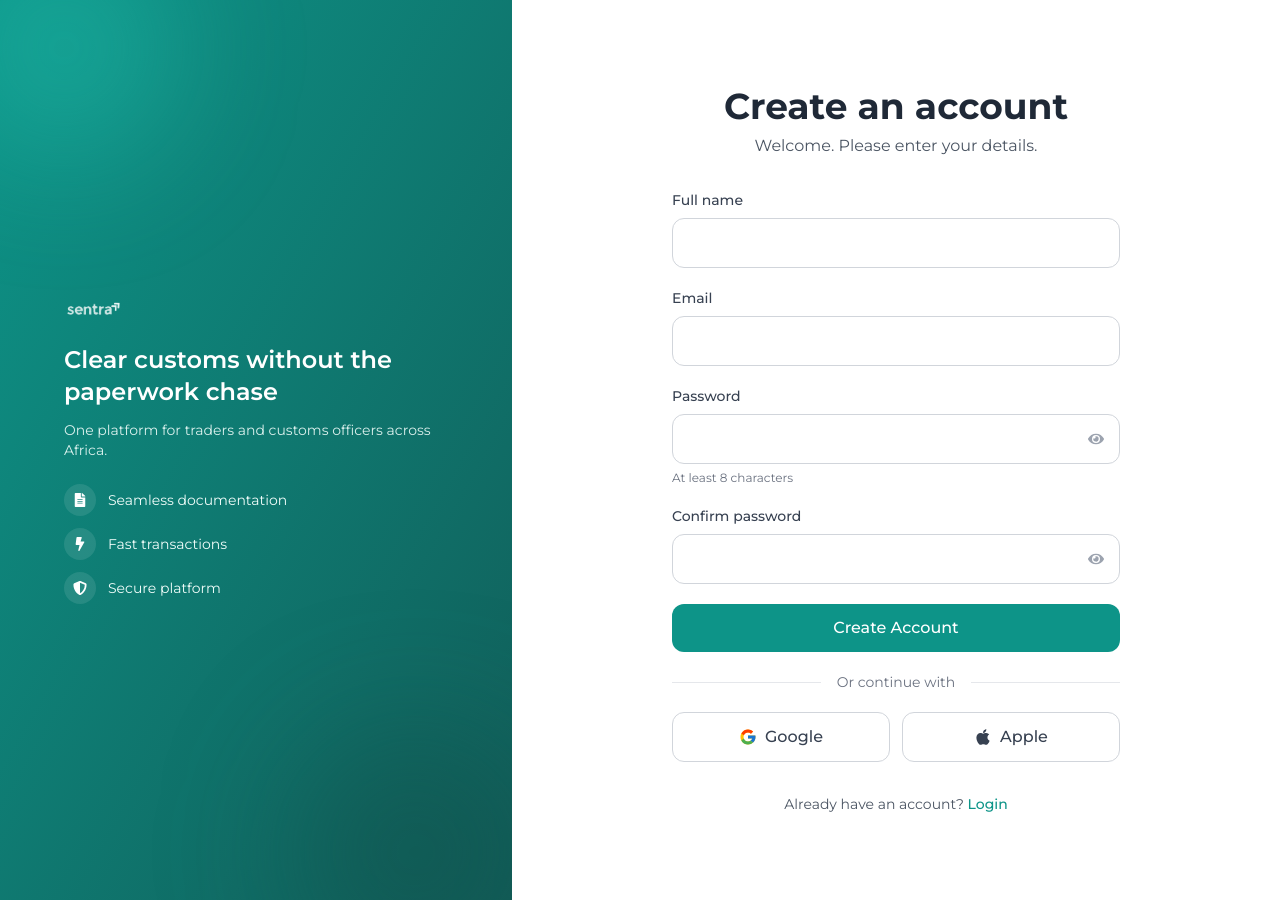
TraderSignup validation › shows required-field errors when submitted empty
Step 1. Click the button "Create Account" → x=896, y=628, box [672, 604, 1120, 652]
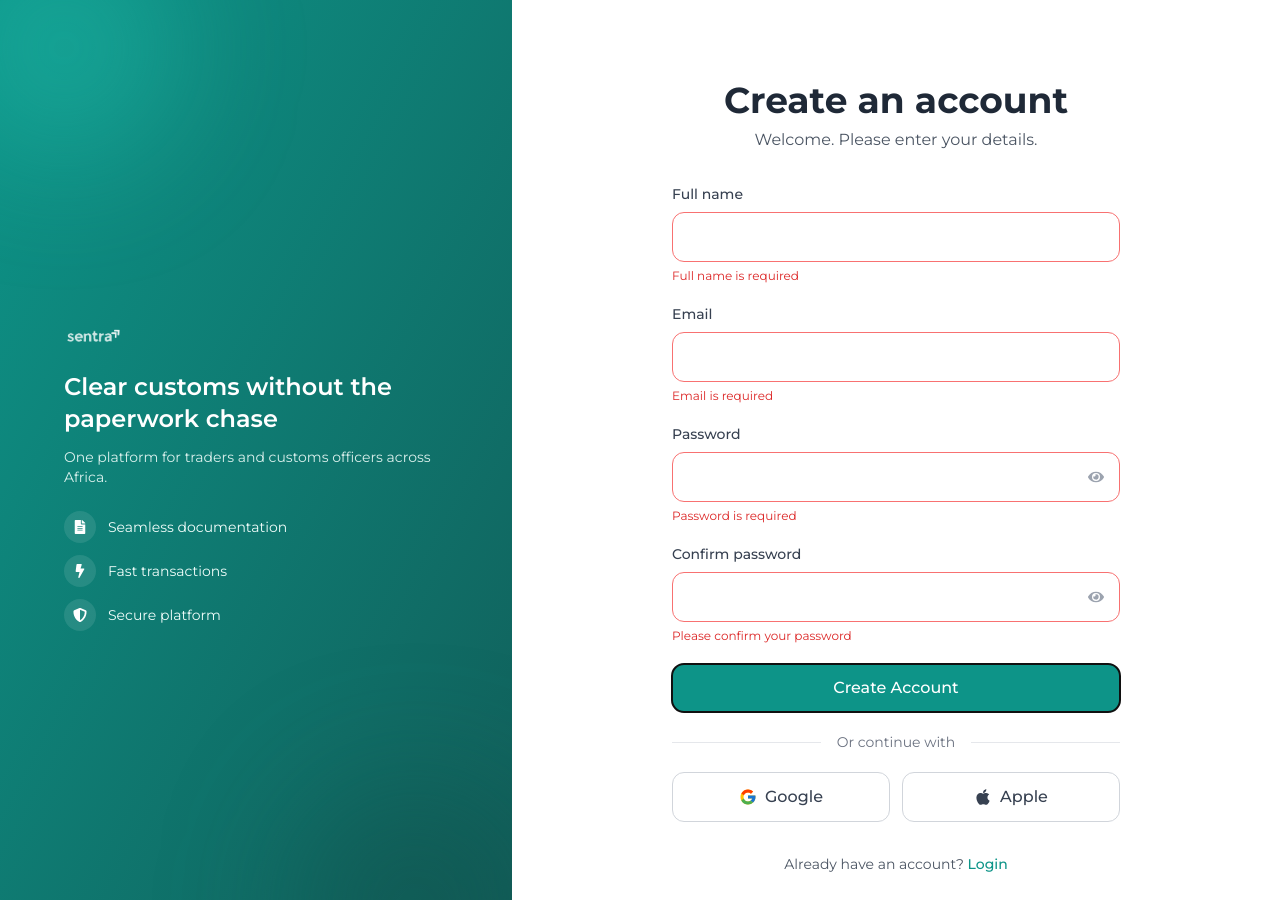
Now the text "Full name is required" is shown, box [672, 268, 799, 283]
Now the text "Email is required" is shown, box [672, 388, 773, 403]
Now the text "Password is required" is shown, box [672, 508, 796, 523]
